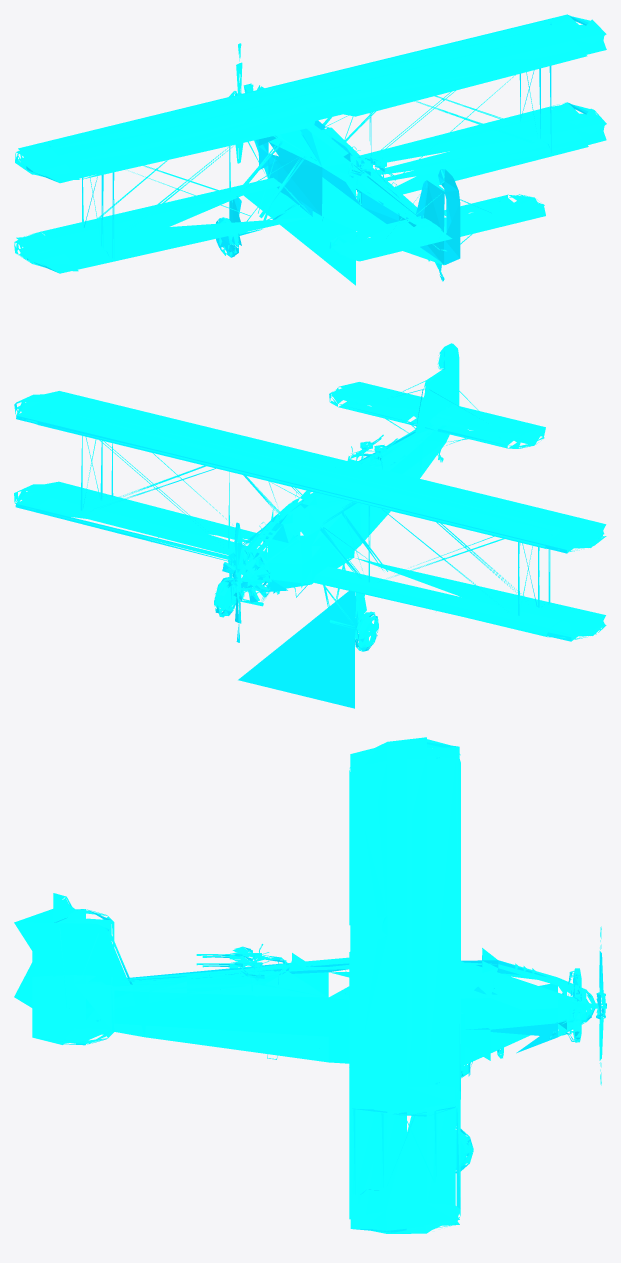
File: PAAB005.glb
The picture shows the model from 3 angles, top to bottom: view 1: azimuth 30°, elevation 25°; view 2: azimuth 150°, elevation 25°; view 3: azimuth 270°, elevation 25°; orthographic projection. The views are drawn at different scales.
Visible parts, largest first — view 1: misc; view 2: misc; view 3: misc.
Boxes of the visible parts, box(x1,y1,x2,y2) form: misc: box(14, 14, 606, 285); misc: box(14, 343, 606, 708); misc: box(14, 737, 606, 1233).
Size of the model in its own units: 1.07 by 0.4227 by 0.7148.
